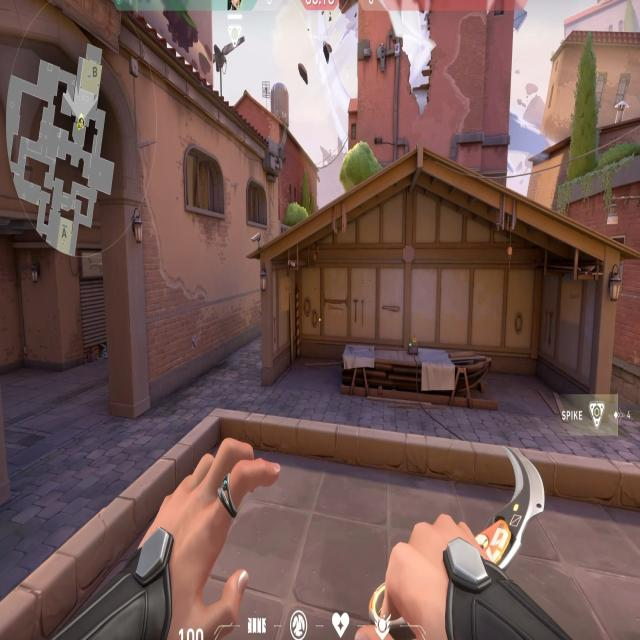B_Garage_Left: (258, 248, 360, 392)
B_Garage_Right: (471, 248, 621, 402)
Throwables: (182, 142, 227, 220), (246, 176, 270, 231)
